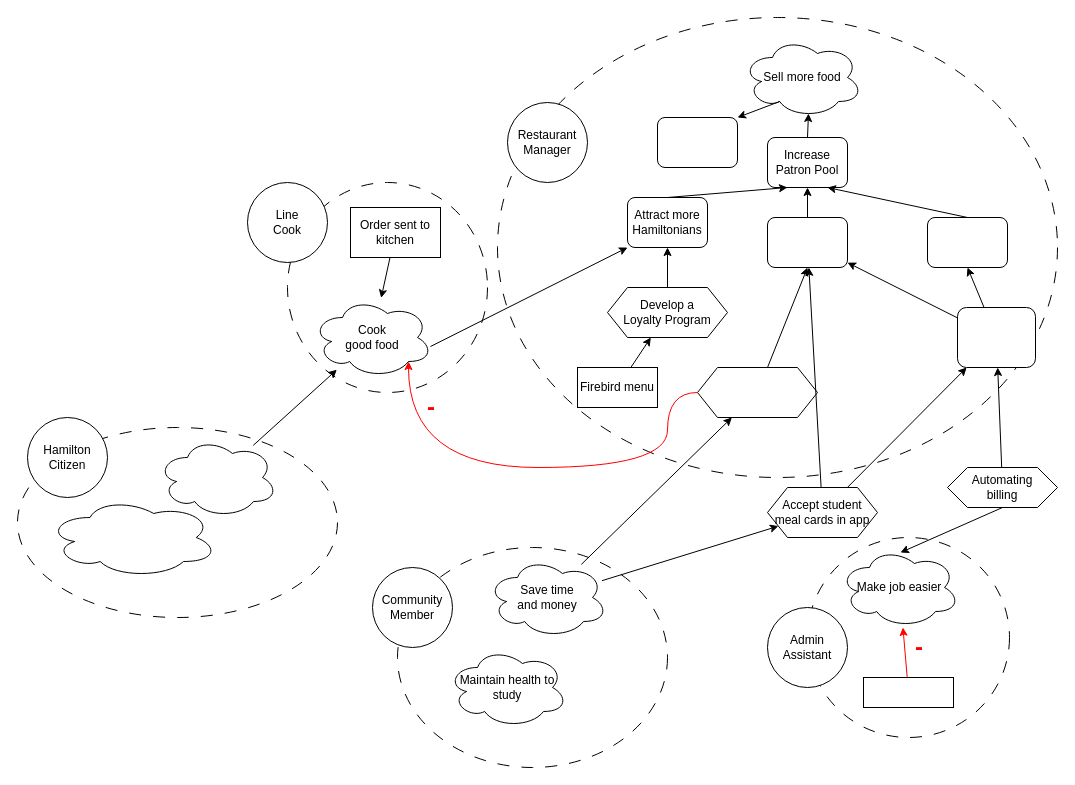
Some shapes in this 1075 by 785 pixel diagram are drawn without their labels. Each missing label, with the box of its shape:
Attract more students: (766, 216, 848, 268)
Cater for internal events: (926, 216, 1008, 268)
Develop a MealBox approach: (696, 366, 818, 418)
Expense Report: (862, 676, 954, 708)
Get good food and drinks: (156, 436, 278, 518)
Have fun going out: (46, 496, 218, 578)
Integrate with Mosaic: (956, 306, 1036, 368)
Make more money: (656, 116, 738, 168)
